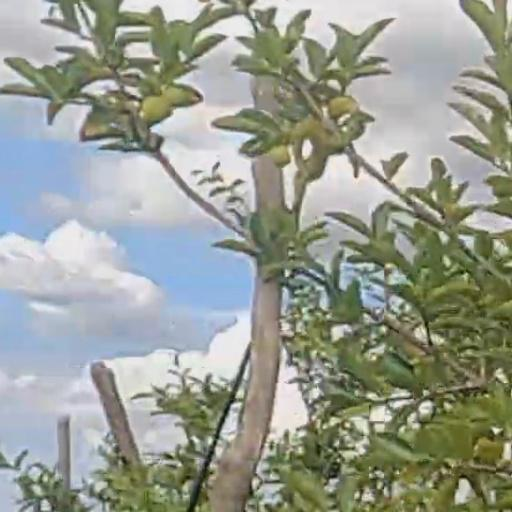acerola_verde: (143, 98, 169, 121)
